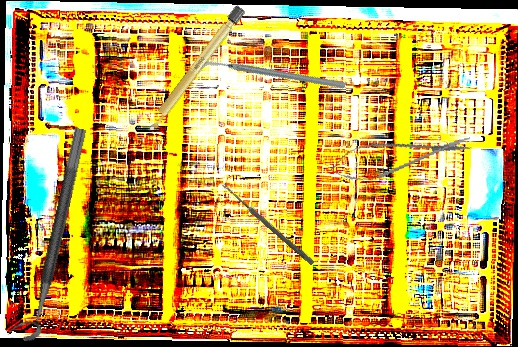Chopper: (198, 10, 349, 142)
Fixation Ring: (6, 123, 89, 344)
Micro Scissor: (326, 124, 475, 189)
Scalpel Handle: (142, 3, 247, 137)
Surgical Spoon: (220, 182, 316, 266)
